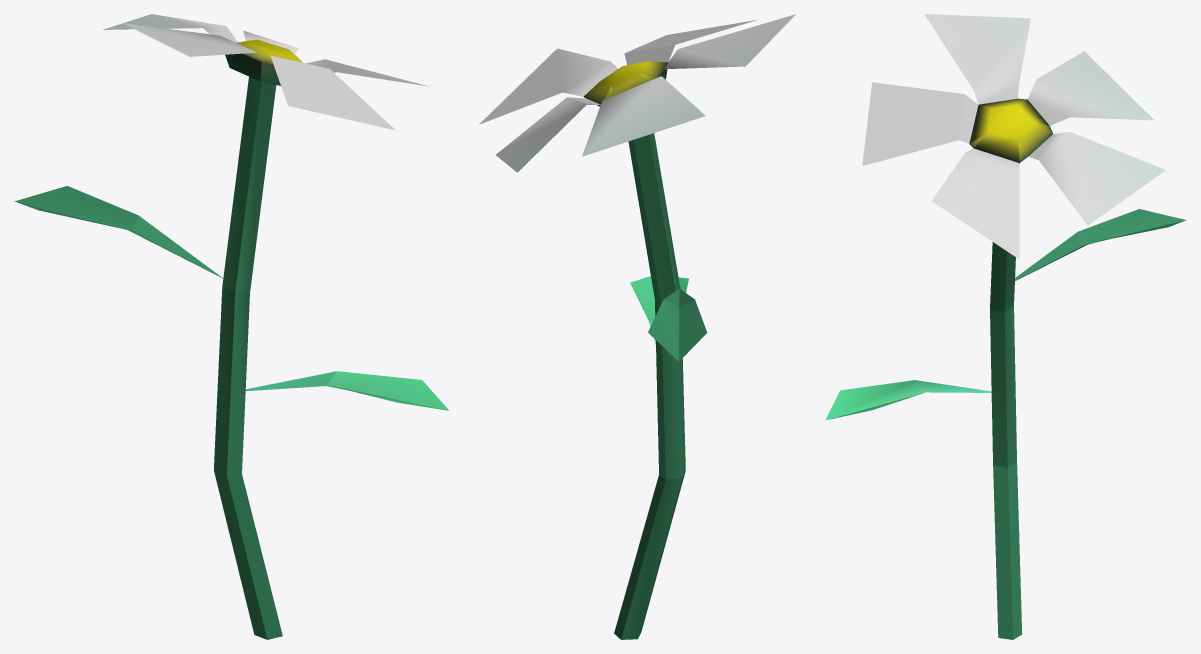
The model's file is Цветок-хуек-color.glb.
The picture shows the model from 3 angles, left to right: view 1: azimuth 30°, elevation 25°; view 2: azimuth 150°, elevation 25°; view 3: azimuth 270°, elevation 25°; orthographic projection. The views are drawn at different scales.
Visible parts, largest first — view 1: Окружность; view 2: Окружность; view 3: Окружность.
Boxes of the visible parts, left/top/right/bottom form: Окружность: left=14, top=14, right=449, bottom=639; Окружность: left=479, top=14, right=795, bottom=639; Окружность: left=825, top=14, right=1186, bottom=639.
Size of the model in its own units: 0.2108 by 0.4223 by 0.2444.
